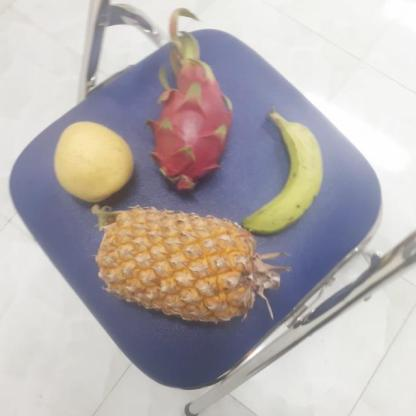banana: (244, 107, 328, 232)
guava: (54, 121, 138, 202)
pineapple: (102, 212, 276, 322)
pitaya: (143, 96, 234, 186)
